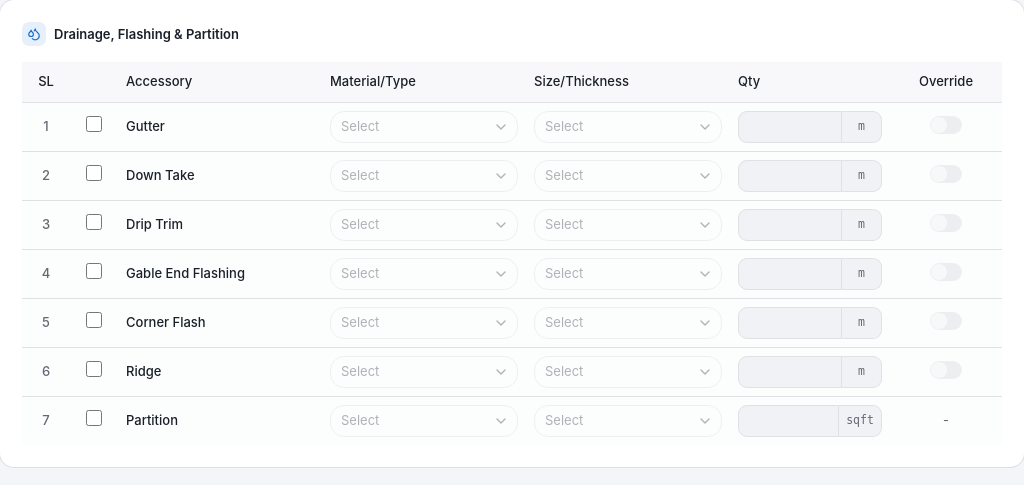
Test: DrainageFlashingPartition › enables a row and updates its material and size
Click the checkbox named "Include Gutter" at (94, 124), box [86,116,102,132]
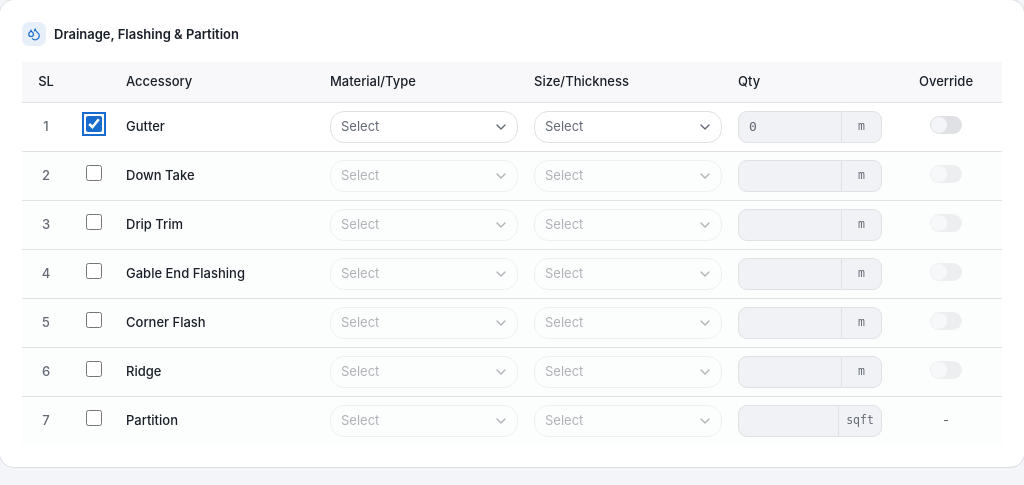
Expected: the dropdown named "Gutter material" is enabled, [330,110,518,142]
Expected: the dropdown named "Gutter size" is enabled, [534,110,722,142]
